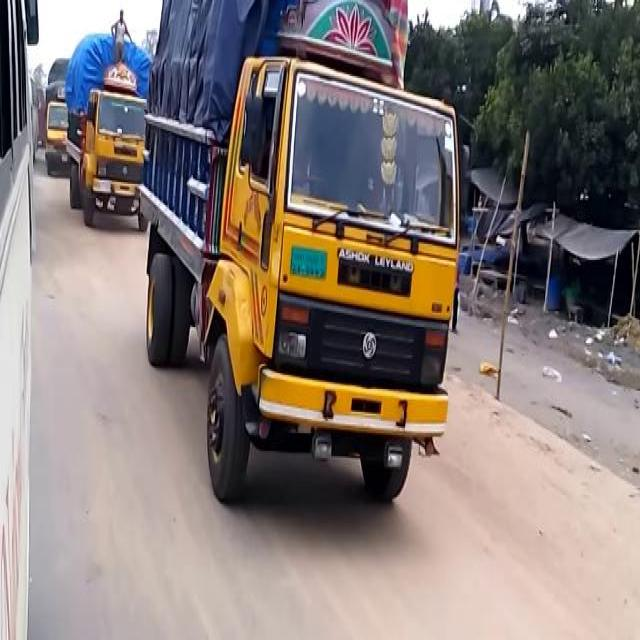bus: (0, 1, 32, 632)
truck: (141, 0, 459, 506), (64, 18, 150, 228), (44, 55, 70, 173)
